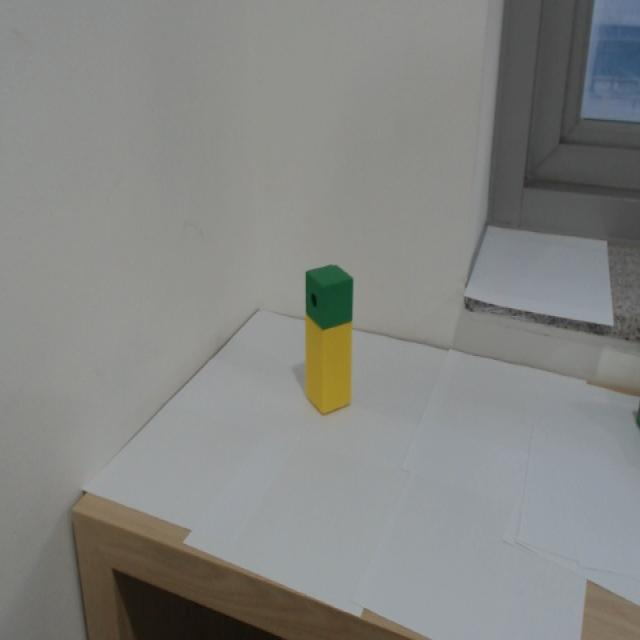cube: (301, 262, 358, 331)
